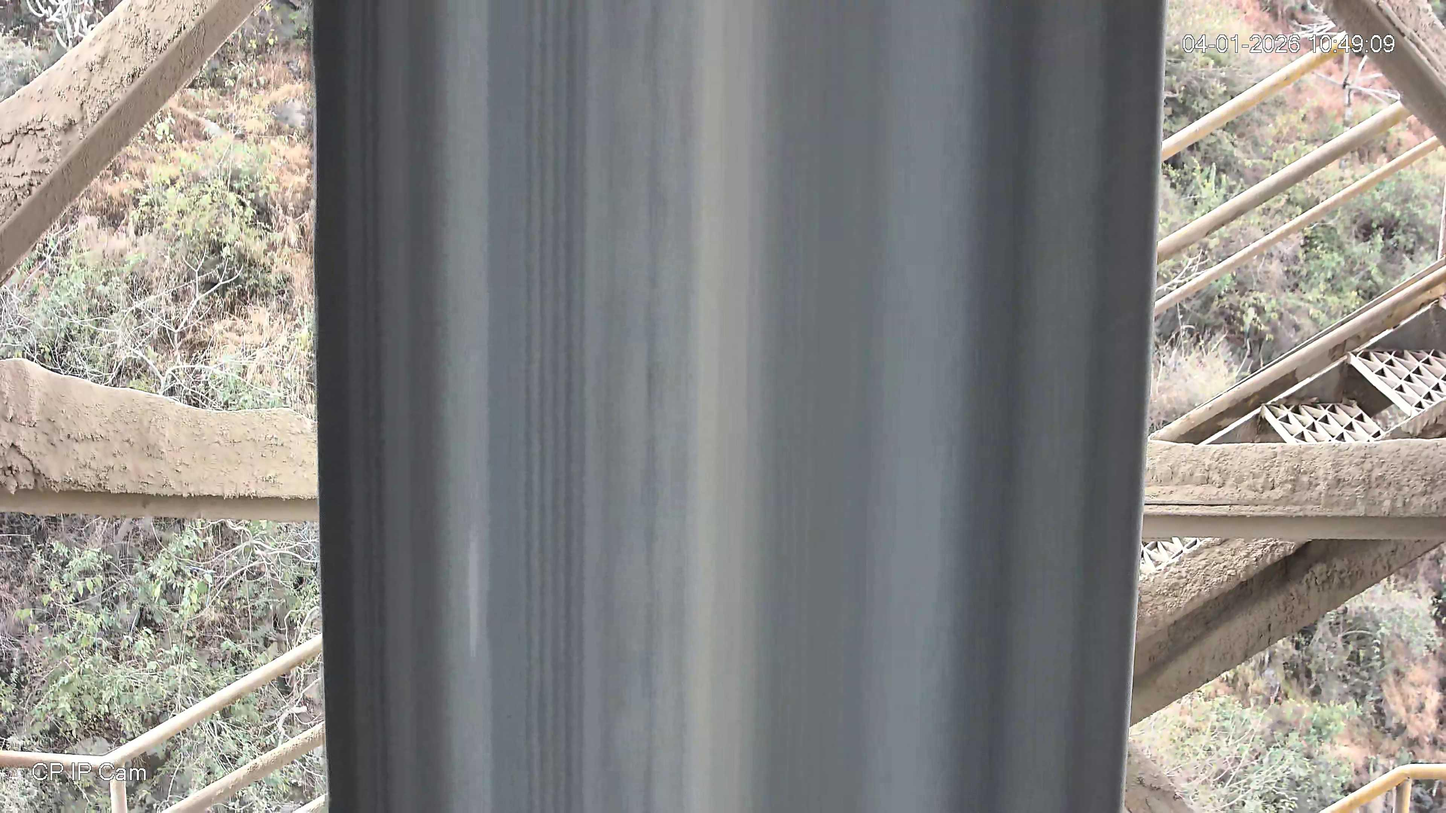belt_roi: (309, 0, 1166, 813)
